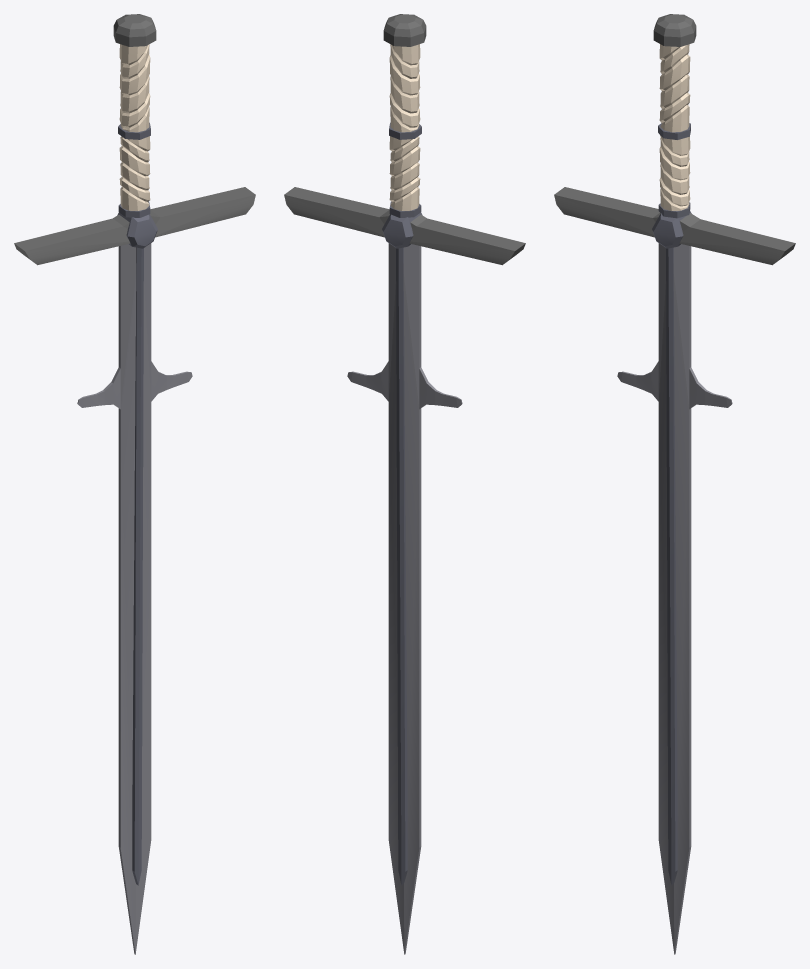
The model's file is _SWORD_3.fbx.
3 views of the same model, side by side, from view 1: azimuth 30°, elevation 25°; view 2: azimuth 150°, elevation 25°; view 3: azimuth 330°, elevation 25° (orthographic).
Parts seen in each view (by area): view 1: SWORD_3; view 2: SWORD_3; view 3: SWORD_3.
Part boxes in pixels (x1=…): SWORD_3: x1=14, y1=14, x2=255, y2=954; SWORD_3: x1=284, y1=14, x2=525, y2=954; SWORD_3: x1=554, y1=14, x2=795, y2=954.
Bounding box in the file's own units: 41.31 × 160 × 6.86.
